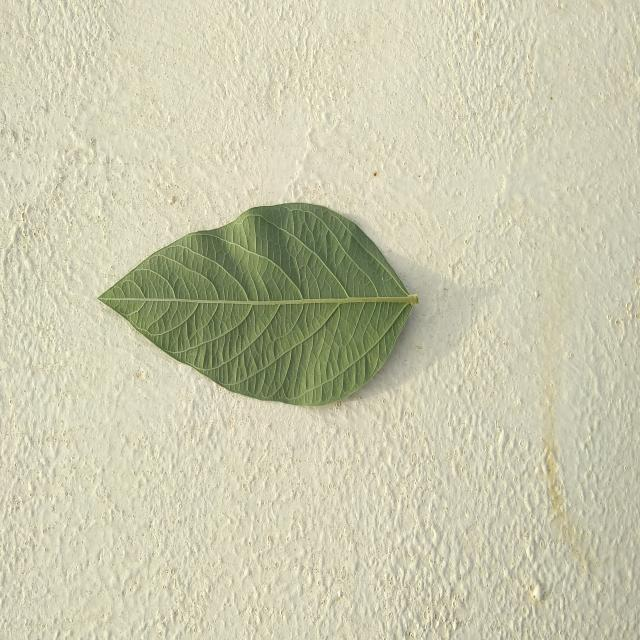leaf: (96, 200, 418, 407)
